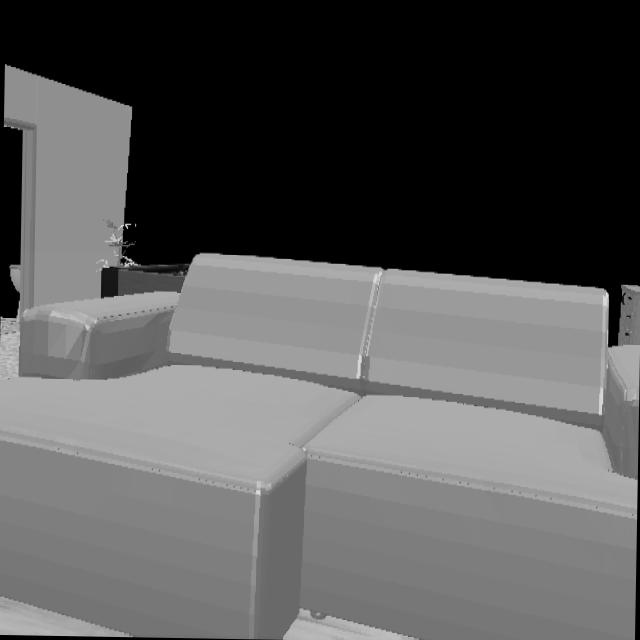sofa: (0, 254, 640, 640)
